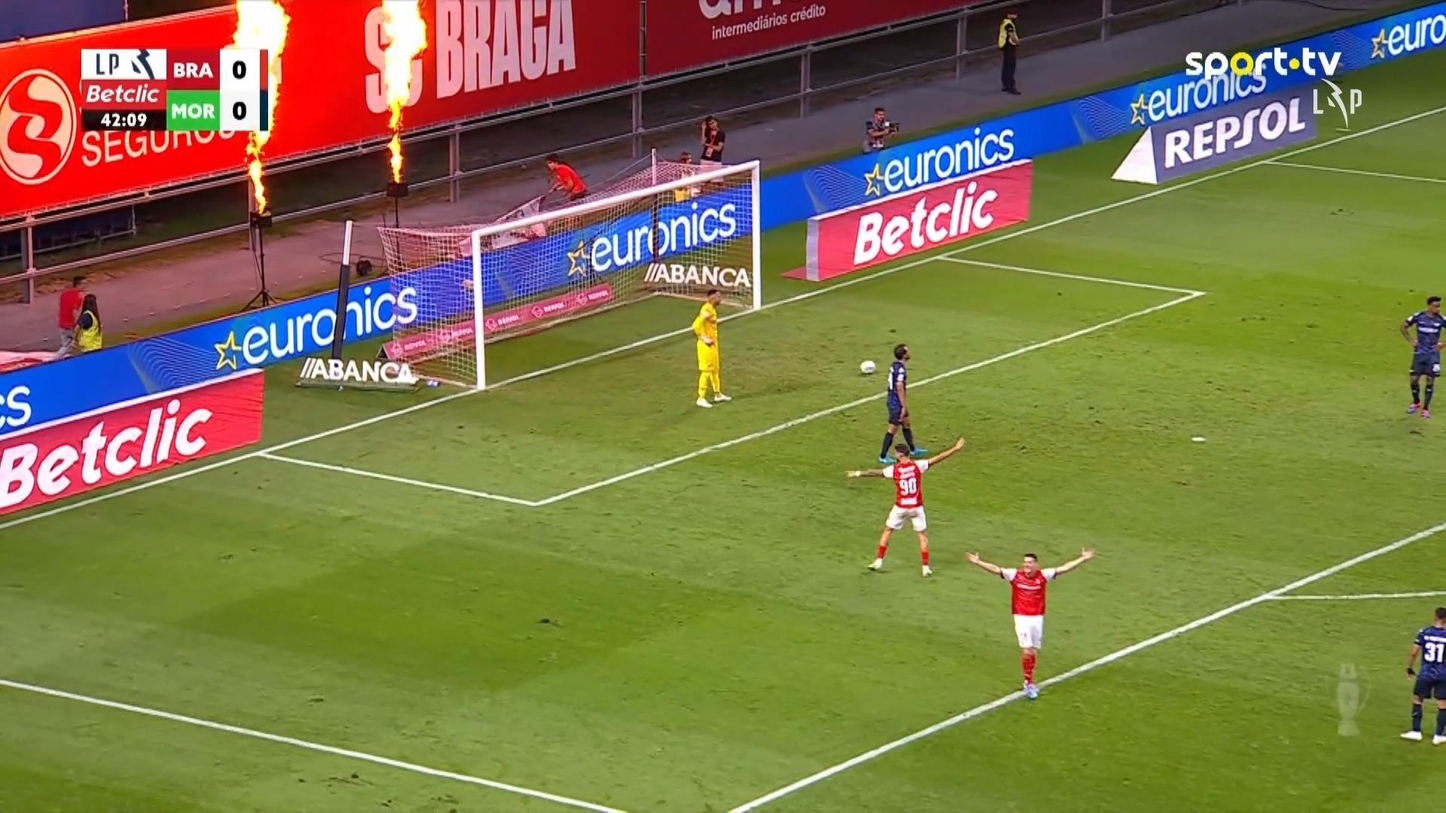ball: (859, 359, 875, 374)
goalkeeper: (691, 288, 731, 407)
player: (964, 545, 1096, 699), (845, 435, 966, 577), (1399, 605, 1444, 745), (1399, 294, 1444, 419), (877, 343, 923, 464)
